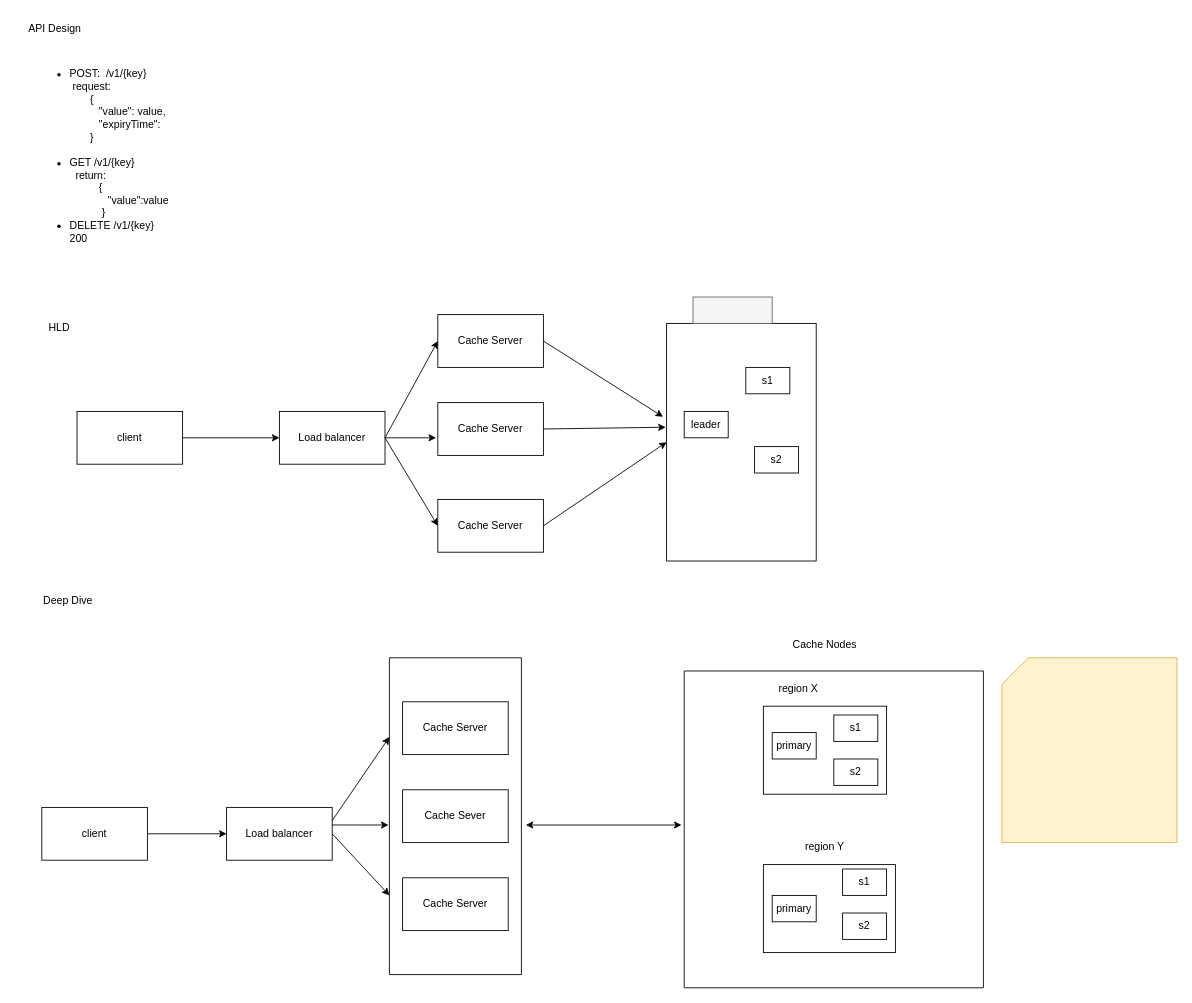
This 1192x1003 diagram has some shape labels left out. Here are the shapes that lost their labels. From the top down, the box of each, then its label:
(692, 296, 772, 323): Persistent Layer
(1001, 657, 1177, 843): Cache nodes are identified by consistent hashing
